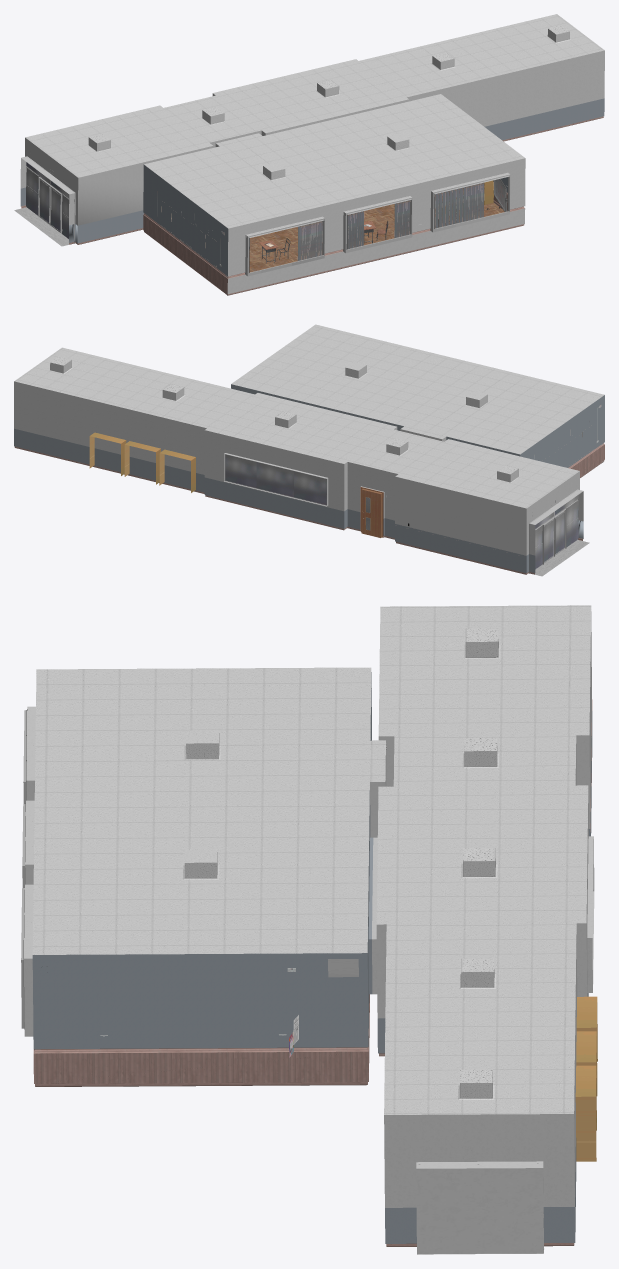
Rendered from RUANG KELAS.glb.
The picture shows the model from 3 angles, top to bottom: view 1: azimuth 30°, elevation 25°; view 2: azimuth 150°, elevation 25°; view 3: azimuth 270°, elevation 25°; orthographic projection. The views are drawn at different scales.
Visible parts, largest first — view 1: mesh_404_128.nr.001, mesh_405_129.nr.001, mesh_407_131.nr.001, mesh_409_133.nr.001, mesh_406_130.nr.001, mesh_410_134.nr.001, mesh_402_126.nr.001, mesh_507_228.nr.001, mesh_391_115.nr.001, mesh_408_132.nr.001, mesh_395_119.nr.003; view 2: mesh_404_128.nr.001, mesh_405_129.nr.001, mesh_407_131.nr.001, mesh_507_228.nr.001, mesh_406_130.nr.001, mesh_398_122.nr.001, mesh_400_124.nr.001, mesh_395_119.nr.003, mesh_408_132.nr.001; view 3: mesh_404_128.nr.001, mesh_407_131.nr.001, mesh_405_129.nr.001, mesh_406_130.nr.001, mesh_398_122.nr.001, mesh_402_126.nr.001.
Boxes of the visible parts, <box> form: mesh_404_128.nr.001: <box>25,14,604,228</box>; mesh_405_129.nr.001: <box>20,50,604,293</box>; mesh_407_131.nr.001: <box>20,98,604,276</box>; mesh_409_133.nr.001: <box>246,182,507,260</box>; mesh_406_130.nr.001: <box>21,116,603,295</box>; mesh_410_134.nr.001: <box>249,189,504,272</box>; mesh_402_126.nr.001: <box>247,174,510,276</box>; mesh_507_228.nr.001: <box>26,162,74,242</box>; mesh_391_115.nr.001: <box>259,179,507,263</box>; mesh_408_132.nr.001: <box>14,207,68,246</box>; mesh_395_119.nr.003: <box>26,156,227,295</box>; mesh_404_128.nr.001: <box>14,324,604,508</box>; mesh_405_129.nr.001: <box>14,381,583,555</box>; mesh_407_131.nr.001: <box>14,384,604,573</box>; mesh_507_228.nr.001: <box>225,454,578,569</box>; mesh_406_130.nr.001: <box>14,443,604,574</box>; mesh_398_122.nr.001: <box>89,432,195,492</box>; mesh_400_124.nr.001: <box>360,405,601,537</box>; mesh_395_119.nr.003: <box>224,443,603,573</box>; mesh_408_132.nr.001: <box>535,540,589,576</box>; mesh_404_128.nr.001: <box>32,605,591,1114</box>; mesh_407_131.nr.001: <box>32,672,592,1243</box>; mesh_405_129.nr.001: <box>24,611,594,1254</box>; mesh_406_130.nr.001: <box>33,699,592,1246</box>; mesh_398_122.nr.001: <box>575,996,597,1161</box>; mesh_402_126.nr.001: <box>21,709,27,1029</box>.
Size of the model in its own units: 19.52 by 2.7 by 9.07.
23 materials, 23 textured.
